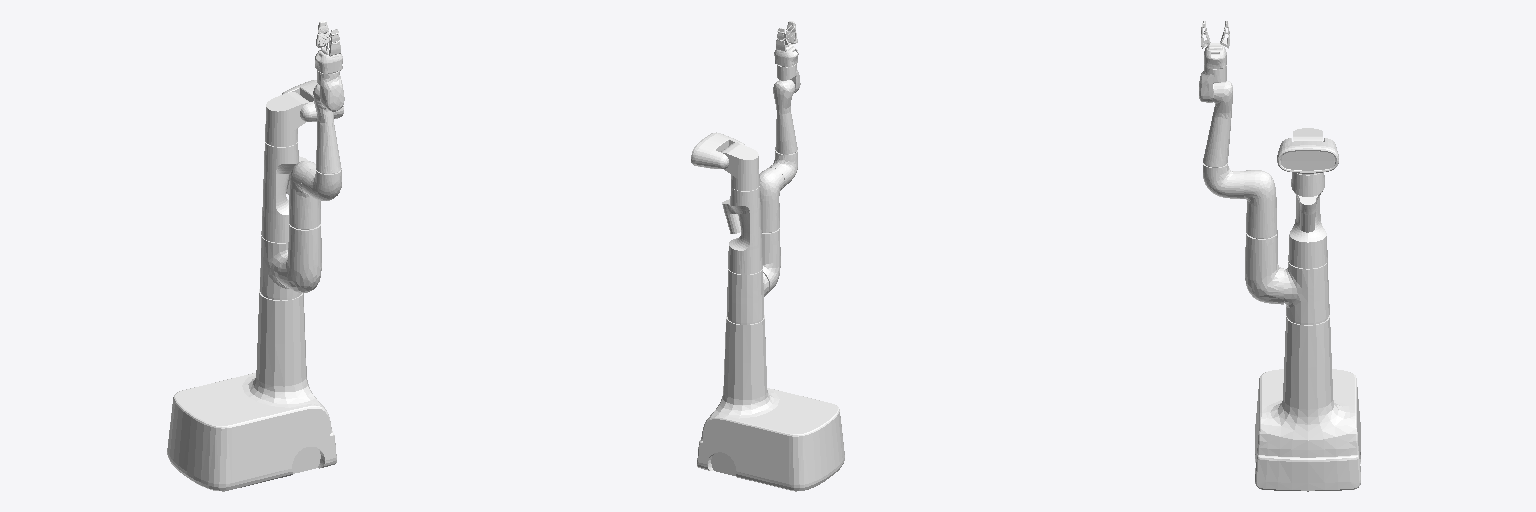
--- What the picture shows (computed from the rendered views, not written in the file) ---
3 views of the same robot in one strip: view 1: azimuth 30°, elevation 25°; view 2: azimuth 150°, elevation 25°; view 3: azimuth 270°, elevation 25° (orthographic).
Model google_robot with 21 links and 20 joints (9 revolute, 11 fixed), rooted at base_link, posed joints at zero except 2 at the middle of their limits (joint_finger_right = 0.655, joint_finger_left = 0.655).
Visible links, largest first — view 1: base_link, link_shoulder, link_bicep, link_forearm, link_torso, link_elbow, link_wrist; view 2: base_link, link_torso, link_forearm, link_bicep, link_shoulder, link_elbow; view 3: base_link, link_torso, link_shoulder, link_bicep, link_forearm, link_elbow, link_wrist, link_gripper.
Link boxes in pixels (box(x1,y1,x2,y2)): base_link: box(167, 80, 343, 491); link_shoulder: box(278, 224, 321, 292); link_bicep: box(289, 161, 320, 228); link_forearm: box(313, 84, 341, 173); link_torso: box(260, 236, 301, 300); link_elbow: box(302, 168, 341, 200); link_wrist: box(317, 70, 344, 111); base_link: box(691, 132, 844, 491); link_torso: box(727, 269, 768, 324); link_forearm: box(773, 80, 797, 153); link_bicep: box(760, 168, 784, 232); link_shoulder: box(762, 228, 780, 295); link_elbow: box(769, 150, 797, 188); base_link: box(1255, 128, 1360, 491); link_torso: box(1284, 261, 1329, 324); link_shoulder: box(1245, 232, 1283, 304); link_bicep: box(1244, 170, 1277, 237); link_forearm: box(1203, 81, 1232, 166); link_elbow: box(1203, 163, 1243, 198); link_wrist: box(1199, 65, 1226, 102); link_gripper: box(1204, 43, 1226, 68).
Bounding box of the posed robot: 0.5899 × 0.5786 × 1.79 m (x, y, z).
14 mesh visuals loaded from 12 distinct referenced files (12 binary STL).

The robot description file, URDF, robot "google_robot":
<?xml version="1.0" ?>
<robot name="google_robot">
   <!--generated with mjcf_urdf_simple_converter (https://github.com/Yasu31/mjcf_urdf_simple_converter)-->

   <!-- <link name="world">
      <inertial>
         <origin xyz="0.0 0.0 0.0" rpy="0.0 0.0 0.0"/>
         <mass value="0.0"/>
         <inertia ixx="0.0" iyy="0.0" izz="0.0" ixy="0" ixz="0" iyz="0"/>
      </inertial>
   </link> -->

   <link name="base_link">
      <!-- <inertial>
         <origin xyz="-0.08549215471308093 -0.0003283566830510141 0.293693594005164" rpy="0.18410589315352854 -0.00044907516071801545 1.5704315215637985"/>
         <mass value="140.49156113631398"/>
         <inertia ixx="22.199985572044444" iyy="21.147924177009482" izz="3.1781594804057987" ixy="0" ixz="0" iyz="0"/>
      </inertial> -->
      <visual name="link_base_v">
         <origin xyz="-0.09223875360195581 -2.16194849456654e-05 0.27299190198481205" rpy="0.19114878981556016 -0.00014224676061957986 1.5707815235452554"/>
         <geometry>
            <mesh filename="package://google_robot_description/meshes/converted_link_base_v.stl"/>
         </geometry>
         <material name="white"/>
      </visual>
      <collision name="link_base_0_00">
         <origin xyz="-0.1296613167139581 0.08742954969797466 0.07848667593454184" rpy="1.5626326666896526 -0.03216163129944638 1.5843547285830248"/>
         <geometry>
            <mesh filename="package://google_robot_description/meshes/converted_link_base_0_00.stl"/>
         </geometry>
         <material name="white"/>
      </collision>
      <collision name="link_base_0_01">
         <origin xyz="-0.1296613141190887 -0.08807371157679778 0.07776313948307118" rpy="1.5627453024989477 0.023917192016621458 1.5572410540849781"/>
         <geometry>
            <mesh filename="package://google_robot_description/meshes/converted_link_base_0_01.stl"/>
         </geometry>
         <material name="white"/>
      </collision>
      <collision name="link_base_1_00">
         <origin xyz="-0.023243605560313307 -0.000913311846711107 0.22153747424739467" rpy="-2.0044603094681754 -1.5609850061274022 -2.707950056894595"/>
         <geometry>
            <mesh filename="package://google_robot_description/meshes/converted_link_base_1_00.stl"/>
         </geometry>
         <material name="white"/>
      </collision>
      <collision name="link_base_1_01">
         <origin xyz="-0.00013213843775259352 -0.003891389912020692 0.8591610100071456" rpy="0.9408405165717699 -1.5141935471744359 2.251774071927241"/>
         <geometry>
            <mesh filename="package://google_robot_description/meshes/converted_link_base_1_01.stl"/>
         </geometry>
         <material name="white"/>
      </collision>
      <collision name="link_base_1_02">
         <origin xyz="-0.02309503477518413 -0.004698092936603997 1.1395854136336547" rpy="1.5749189167904627 0.013772764098090917 5.6774970830675286e-05"/>
         <geometry>
            <mesh filename="package://google_robot_description/meshes/converted_link_base_1_02.stl"/>
         </geometry>
         <material name="white"/>
      </collision>
      <collision name="link_base_1_03">
         <origin xyz="1.4284385260595886e-10 -0.001732618755265506 0.42026923811736827" rpy="0.0 -0.004122666648090467 1.5707963267948966"/>
         <geometry>
            <mesh filename="package://google_robot_description/meshes/converted_link_base_1_03.stl"/>
         </geometry>
         <material name="white"/>
      </collision>
      <collision name="link_base_1_04">
         <origin xyz="-0.0002741852647968854 -0.0010611888499496107 0.25739079767900175" rpy="-1.4641199554045614 -1.5666501092801997 -1.6775814254526509"/>
         <geometry>
            <mesh filename="package://google_robot_description/meshes/converted_link_base_1_04.stl"/>
         </geometry>
         <material name="white"/>
      </collision>
      <collision name="link_base_1_05">
         <origin xyz="-0.0017959920095182186 -0.000995980366230225 0.24157156087876594" rpy="-1.2470291882138997 -1.566447701074763 -1.8946098597648362"/>
         <geometry>
            <mesh filename="package://google_robot_description/meshes/converted_link_base_1_05.stl"/>
         </geometry>
         <material name="white"/>
      </collision>
      <collision name="link_base_1_06">
         <origin xyz="-0.03048719367157649 -0.00407962015408136 0.9698067404074032" rpy="1.5921372866823231 -1.491821254730076 -0.020966884214348447"/>
         <geometry>
            <mesh filename="package://google_robot_description/meshes/converted_link_base_1_06.stl"/>
         </geometry>
         <material name="white"/>
      </collision>
      <collision name="link_base_1_07">
         <origin xyz="-0.024516331446952998 -0.004282342006408316 1.0236903264230999" rpy="-0.26080190791992097 -0.006573526482474001 1.5838030739791051"/>
         <geometry>
            <mesh filename="package://google_robot_description/meshes/converted_link_base_1_07.stl"/>
         </geometry>
         <material name="white"/>
      </collision>
      <collision name="link_base_1_08">
         <origin xyz="0.05279125870748729 -0.005223569969948061 0.9992588696439293" rpy="-0.022219446384517928 0.27923102687212653 -1.734723475976807e-18"/>
         <geometry>
            <mesh filename="package://google_robot_description/meshes/converted_link_base_1_08.stl"/>
         </geometry>
         <material name="white"/>
      </collision>
      <collision name="link_base_1_09">
         <origin xyz="-0.05039927577855595 -0.0046188373226951455 1.12035908270126" rpy="0.004124849402150095 0.03167508524604057 0.00013065088534363386"/>
         <geometry>
            <mesh filename="package://google_robot_description/meshes/converted_link_base_1_09.stl"/>
         </geometry>
         <material name="white"/>
      </collision>
      <collision name="link_base_1_10">
         <origin xyz="0.019550870209108315 -0.004443240873268934 1.0769948939788907" rpy="-3.127515164395966 -1.290480329375801 -0.01332292395367296"/>
         <geometry>
            <mesh filename="package://google_robot_description/meshes/converted_link_base_1_10.stl"/>
         </geometry>
         <material name="white"/>
      </collision>
      <collision name="link_base_1_11">
         <origin xyz="-0.00608546585875073 -0.0019305184453416704 0.917104103053469" rpy="0.8958481424978622 -1.5528600525721117 2.2735748484621423"/>
         <geometry>
            <mesh filename="package://google_robot_description/meshes/converted_link_base_1_11.stl"/>
         </geometry>
         <material name="white"/>
      </collision>
      <collision name="link_base_1_12">
         <origin xyz="-0.02279777625955035 -0.0036121401841248597 0.93173598317525" rpy="-1.5347047542974925 -1.5107853240034956 -3.13026982507934"/>
         <geometry>
            <mesh filename="package://google_robot_description/meshes/converted_link_base_1_12.stl"/>
         </geometry>
         <material name="white"/>
      </collision>
      <collision name="link_base_1_13">
         <origin xyz="-0.02840924238956474 -0.003905612482536215 0.9484767762393416" rpy="-1.7390995260863498 -1.546450607750769 -2.9709354607748333"/>
         <geometry>
            <mesh filename="package://google_robot_description/meshes/converted_link_base_1_13.stl"/>
         </geometry>
         <material name="white"/>
      </collision>
      <collision name="link_base_1_14">
         <origin xyz="0.07021841466895207 -0.006779204715447116 1.0388533107070694" rpy="0.0 0.0 0.0"/>
         <geometry>
            <mesh filename="package://google_robot_description/meshes/converted_link_base_1_14.stl"/>
         </geometry>
         <material name="white"/>
      </collision>
      <collision name="link_base_1_15">
         <origin xyz="-0.031233709803401313 -0.0046908556250446 1.1378281289834207" rpy="1.574919068730703 0.028250960550824766 0.00011646192931036303"/>
         <geometry>
            <mesh filename="package://google_robot_description/meshes/converted_link_base_1_15.stl"/>
         </geometry>
         <material name="white"/>
      </collision>
      <collision name="link_base_1_16">
         <origin xyz="-0.008960660517729903 -0.004695325422412281 1.1389147533742148" rpy="1.57491959479392 -0.005800372211130833 -2.3916490544895197e-05"/>
         <geometry>
            <mesh filename="package://google_robot_description/meshes/converted_link_base_1_16.stl"/>
         </geometry>
         <material name="white"/>
      </collision>
      <collision name="link_base_1_17">
         <origin xyz="-0.03915800473758921 -0.004671461104009716 1.1331248747099654" rpy="1.5749224711767043 0.045689022072876284 0.00018850809722226192"/>
         <geometry>
            <mesh filename="package://google_robot_description/meshes/converted_link_base_1_17.stl"/>
         </geometry>
         <material name="white"/>
      </collision>
      <collision name="link_base_1_18">
         <origin xyz="0.026521126765433573 -0.00467128565259663 1.133671401141913" rpy="1.5747833901377108 -0.21660656506310816 -0.0008712843250853197"/>
         <geometry>
            <mesh filename="package://google_robot_description/meshes/converted_link_base_1_18.stl"/>
         </geometry>
         <material name="white"/>
      </collision>
      <collision name="link_base_1_19">
         <origin xyz="0.057783034622311685 -0.0009008488953425035 0.21847838834502287" rpy="1.6284807259534242 -1.4992799216023573 -0.05755069950683511"/>
         <geometry>
            <mesh filename="package://google_robot_description/meshes/converted_link_base_1_19.stl"/>
         </geometry>
         <material name="white"/>
      </collision>
      <!-- <visual name="link_wheel_v">
         <origin xyz="-5.489740642117986e-20 0.18283 8.563015090875109e-19" rpy="0.0 0.0 1.5707963267948966"/>
         <geometry>
            <mesh filename="package://google_robot_description/meshes/converted_link_wheel_v.stl"/>
         </geometry>
         <material name="white"/>
      </visual>
      <visual name="link_wheel_v">
         <origin xyz="-5.489740642117986e-20 -0.18283 8.563015090875109e-19" rpy="0.0 0.0 1.5707963267948966"/>
         <geometry>
            <mesh filename="package://google_robot_description/meshes/converted_link_wheel_v.stl"/>
         </geometry>
         <material name="white"/>
      </visual> -->
      <visual name="link_head_pan_v">
         <origin xyz="0.01734790753151771 8.44039069710016e-08 1.2518710839834226" rpy="0.7102792183914598 4.605302922122689e-06 1.5708002874211906"/>
         <geometry>
            <mesh filename="package://google_robot_description/meshes/converted_link_head_pan_v.stl"/>
         </geometry>
         <material name="white"/>
      </visual>
      <collision name="link_head_pan">
         <origin xyz="0.016786564891622127 4.6002984721788605e-05 1.2516083142177832" rpy="0.7361941103384193 -0.007356367894106652 1.5797260334666345"/>
         <geometry>
            <mesh filename="package://google_robot_description/meshes/converted_link_head_pan.stl"/>
         </geometry>
         <material name="white"/>
      </collision>
      <visual name="link_head_tilt_v">
         <origin xyz="0.1317184863266883 -3.172470437313845e-09 1.2899775063112424" rpy="-1.5707963267948966 -1.552006720135865 3.141592653589793"/>
         <geometry>
            <mesh filename="package://google_robot_description/meshes/converted_link_head_tilt_v.stl"/>
         </geometry>
         <material name="white"/>
      </visual>
      <collision name="link_head_tilt">
         <origin xyz="0.13615088900957345 -2.470995414950858e-05 1.289459414259963" rpy="-1.5583176658244278 -1.5548709242993137 3.1289609458558334"/>
         <geometry>
            <mesh filename="package://google_robot_description/meshes/converted_link_head_tilt.stl"/>
         </geometry>
         <material name="white"/>
      </collision>
   </link>


   <!-- <link name="link_right_wheel">
      <visual name="link_wheel_v">
         <geometry>
            <mesh filename="package://google_robot_description/meshes/converted_link_wheel_v.stl"/>
         </geometry>
         <material name="white"/>
      </visual>
      <collision name="link_wheel_v">
         <geometry>
            <mesh filename="package://google_robot_description/meshes/converted_link_wheel_v.stl"/>
         </geometry>
         <material name="white"/>
      </collision>
   </link>
   <joint name="joint_right_wheel" type="continuous">
      <origin xyz="-5.489740642117986e-20 0.18283 8.563015090875109e-19"  rpy="0.0 0.0 1.5707963267948966"/>
      <parent link="base_link" />
      <child link="link_right_wheel" />
      <axis xyz="0 0 1" />
   </joint>

   <link name="link_left_wheel">
      <visual name="link_wheel_v">
         <geometry>
            <mesh filename="package://google_robot_description/meshes/converted_link_wheel_v.stl"/>
         </geometry>
         <material name="white"/>
      </visual>
      <collision name="link_wheel_v">
         <geometry>
            <mesh filename="package://google_robot_description/meshes/converted_link_wheel_v.stl"/>
         </geometry>
         <material name="white"/>
      </collision>
   </link>
   <joint name="joint_left_wheel" type="continuous">
      <origin xyz="-5.489740642117986e-20 -0.18283 8.563015090875109e-19" rpy="0.0 0.0 1.5707963267948966"/>
      <parent link="base_link" />
      <child link="link_left_wheel" />
      <axis xyz="0 0 1" />
   </joint> -->

   <!-- <joint type="fixed" name="world2base_link_fixed">
      <parent link="world"/>
      <child link="base_link"/>
      <origin xyz="0.0 0.0 0.06205" rpy="0.0 0.0 0.0"/>
   </joint> -->
   <link name="link_torso">
      <inertial>
         <origin xyz="0.0 0.0 0.108398" rpy="0.0 0.0 0.0"/>
         <mass value="2.46883"/>
         <inertia ixx="0.0184592" iyy="0.0154173" izz="0.0102031" ixy="0" ixz="0" iyz="0"/>
      </inertial>
      <visual name="link_torso_v">
         <origin xyz="8.658159210019836e-06 -0.02210521754429183 0.10191571454357089" rpy="0.5643664781645378 0.00030686093619070043 -8.725427772460215e-05"/>
         <geometry>
            <mesh filename="package://google_robot_description/meshes/converted_link_torso_v.stl"/>
         </geometry>
         <material name="white"/>
      </visual>
      <collision name="link_torso_00">
         <origin xyz="-4.6388655020453734e-05 -0.12794687734710203 0.11271525635608291" rpy="1.3332384960708403 -0.00186770875035136 1.568021757857159"/>
         <geometry>
            <mesh filename="package://google_robot_description/meshes/converted_link_torso_00.stl"/>
         </geometry>
         <material name="white"/>
      </collision>
      <collision name="link_torso_01">
         <origin xyz="1.3621469465993702e-05 -0.008632878579039322 0.10417039099495055" rpy="0.03613726871855304 -0.000429112235745821 -0.00570976553423614"/>
         <geometry>
            <mesh filename="package://google_robot_description/meshes/converted_link_torso_01.stl"/>
         </geometry>
         <material name="white"/>
      </collision>
   </link>
   <link name="joint_torso_jointbody">
      <inertial>
         <origin xyz="0.0 0.0 0.0" rpy="0.0 0.0 0.0"/>
         <mass value="0.001"/>
         <inertia ixx="1e-09" iyy="1e-09" izz="1e-09" ixy="0" ixz="0" iyz="0"/>
      </inertial>
   </link>
   <joint type="revolute" name="joint_torso">
      <parent link="base_link"/>
      <child link="joint_torso_jointbody"/>
      <origin xyz="0.0 0.0 0.5945" rpy="0.0 0.0 0.0"/>
      <axis xyz="0.0 0.0 1.0"/>
      <limit lower="-4.49" upper="1.35" effort="100" velocity="100"/>
   </joint>
   <joint type="fixed" name="joint_torso_offset">
      <parent link="joint_torso_jointbody"/>
      <child link="link_torso"/>
      <origin xyz="-0.0 -0.0 -0.0" rpy="0.0 0.0 0.0"/>
   </joint>
   <link name="link_shoulder">
      <inertial>
         <origin xyz="0.00108994 0.00565406 0.103479" rpy="0.0 0.0 0.0"/>
         <mass value="2.08054"/>
         <inertia ixx="0.0162136" iyy="0.0158994" izz="0.00367842" ixy="0" ixz="0" iyz="0"/>
      </inertial>
      <visual name="link_shoulder_v">
         <origin xyz="-1.8103932661482854e-05 0.012241325359719925 0.07580134200927313" rpy="0.163817179060937 0.0002837321136692772 0.0002383776990193126"/>
         <geometry>
            <mesh filename="package://google_robot_description/meshes/converted_link_shoulder_v.stl"/>
         </geometry>
         <material name="white"/>
      </visual>
      <collision name="link_shoulder">
         <origin xyz="-6.108556221681531e-05 0.012698231813022516 0.07602079196516663" rpy="0.16283179740275316 0.0024307809201369324 -0.00836521577014511"/>
         <geometry>
            <mesh filename="package://google_robot_description/meshes/converted_link_shoulder.stl"/>
         </geometry>
         <material name="white"/>
      </collision>
   </link>
   <link name="joint_shoulder_jointbody">
      <inertial>
         <origin xyz="0.0 0.0 0.0" rpy="0.0 0.0 0.0"/>
         <mass value="0.001"/>
         <inertia ixx="1e-09" iyy="1e-09" izz="1e-09" ixy="0" ixz="0" iyz="0"/>
      </inertial>
   </link>
   <joint type="revolute" name="joint_shoulder">
      <parent link="link_torso"/>
      <child link="joint_shoulder_jointbody"/>
      <origin xyz="0.0 -0.167289 0.113" rpy="0.0 0.0 0.0"/>
      <axis xyz="0.0 1.0 0.0"/>
      <limit lower="-2.66" upper="3.18" effort="100" velocity="100"/>
   </joint>
   <joint type="fixed" name="joint_shoulder_offset">
      <parent link="joint_shoulder_jointbody"/>
      <child link="link_shoulder"/>
      <origin xyz="-0.0 -0.0 -0.0" rpy="0.0 0.0 0.0"/>
   </joint>
   <link name="link_bicep">
      <inertial>
         <origin xyz="9.39565e-05 -0.0191308 0.130972" rpy="0.0 0.0 0.0"/>
         <mass value="1.3989"/>
         <inertia ixx="0.00828463" iyy="0.00826766" izz="0.00210613" ixy="0" ixz="0" iyz="0"/>
      </inertial>
      <visual name="link_bicep_v">
         <origin xyz="-5.176371048195771e-06 -0.005799848417783903 0.11442910654881332" rpy="0.12479738341574165 -0.00029317886582069796 0.001343943197481455"/>
         <geometry>
            <mesh filename="package://google_robot_description/meshes/converted_link_bicep_v.stl"/>
         </geometry>
         <material name="white"/>
      </visual>
      <collision name="link_bicep">
         <origin xyz="-2.458527277740985e-05 -0.00585676587129004 0.11441431658672646" rpy="0.12620548882837532 -6.339346588180028e-05 -0.0023400189923849513"/>
         <geometry>
            <mesh filename="package://google_robot_description/meshes/converted_link_bicep.stl"/>
         </geometry>
         <material name="white"/>
      </collision>
   </link>
   <link name="joint_bicep_jointbody">
      <inertial>
         <origin xyz="0.0 0.0 0.0" rpy="0.0 0.0 0.0"/>
         <mass value="0.001"/>
         <inertia ixx="1e-09" iyy="1e-09" izz="1e-09" ixy="0" ixz="0" iyz="0"/>
      </inertial>
   </link>
   <joint type="revolute" name="joint_bicep">
      <parent link="link_shoulder"/>
      <child link="joint_bicep_jointbody"/>
      <origin xyz="0.0 0.002289 0.215029" rpy="0.0 0.0 0.0"/>
      <axis xyz="0.0 0.0 1.0"/>
      <limit lower="-2.13" upper="3.71" effort="100" velocity="100"/>
   </joint>
   <joint type="fixed" name="joint_bicep_offset">
      <parent link="joint_bicep_jointbody"/>
      <child link="link_bicep"/>
      <origin xyz="-0.0 -0.0 -0.0" rpy="0.0 0.0 0.0"/>
   </joint>
   <link name="link_elbow">
      <inertial>
         <origin xyz="-1.2460482914821558e-05 -0.07034512399332493 0.019761574109139035" rpy="0.8852449992665434 -0.0004163718989655951 0.0010722873649248177"/>
         <mass value="2.0366235174566665"/>
         <inertia ixx="0.00529312367136757" iyy="0.005076027058695623" izz="0.002671035904881885" ixy="0" ixz="0" iyz="0"/>
      </inertial>
      <visual name="link_elbow_v">
         <origin xyz="-5.662591539588581e-05 -0.07098479015843825 0.019584608434358882" rpy="0.8938066635171974 0.00045003850329572437 0.00023259654843454936"/>
         <geometry>
            <mesh filename="package://google_robot_description/meshes/converted_link_elbow_v.stl"/>
         </geometry>
         <material name="white"/>
      </visual>
      <collision name="link_elbow">
         <origin xyz="5.7377218257743655e-05 -0.06933363577777218 0.020041405534278963" rpy="0.8697165247545069 -0.002967370920618606 0.0035492745701967143"/>
         <geometry>
            <mesh filename="package://google_robot_description/meshes/converted_link_elbow.stl"/>
         </geometry>
         <material name="white"/>
      </collision>
   </link>
   <link name="joint_elbow_jointbody">
      <inertial>
         <origin xyz="0.0 0.0 0.0" rpy="0.0 0.0 0.0"/>
         <mass value="0.001"/>
         <inertia ixx="1e-09" iyy="1e-09" izz="1e-09" ixy="0" ixz="0" iyz="0"/>
      </inertial>
   </link>
   <joint type="revolute" name="joint_elbow">
      <parent link="link_bicep"/>
      <child link="joint_elbow_jointbody"/>
      <origin xyz="1.9206e-12 -0.064 0.185036" rpy="0.0 0.0 0.0"/>
      <axis xyz="0.0 1.0 0.0"/>
      <limit lower="-2.05" upper="3.79" effort="100" velocity="100"/>
   </joint>
   <joint type="fixed" name="joint_elbow_offset">
      <parent link="joint_elbow_jointbody"/>
      <child link="link_elbow"/>
      <origin xyz="-0.0 -0.0 -0.0" rpy="0.0 0.0 0.0"/>
   </joint>
   <link name="link_forearm">
      <inertial>
         <origin xyz="5.832292895816761e-05 0.015758881640218613 0.1500808524841704" rpy="-0.08535641607957227 0.00036546090986577795 0.0026021982098882457"/>
         <mass value="2.1837204258419503"/>
         <inertia ixx="0.020184595781539732" iyy="0.020062424054538827" izz="0.001580403401830833" ixy="0" ixz="0" iyz="0"/>
      </inertial>
      <visual name="link_forearm_v">
         <origin xyz="4.907691614677735e-05 0.015059738242208373 0.1487234994357093" rpy="-0.07984665264015076 0.00036769725335483727 0.0030690120535450047"/>
         <geometry>
            <mesh filename="package://google_robot_description/meshes/converted_link_forearm_v.stl"/>
         </geometry>
         <material name="white"/>
      </visual>
      <collision name="link_forearm">
         <origin xyz="7.371869174950246e-05 0.016923042466346096 0.15234101434901862" rpy="-0.09508189553997816 0.00038443747135707973 0.0022051002238043654"/>
         <geometry>
            <mesh filename="package://google_robot_description/meshes/converted_link_forearm.stl"/>
         </geometry>
         <material name="white"/>
      </collision>
   </link>
   <link name="joint_forearm_jointbody">
      <inertial>
         <origin xyz="0.0 0.0 0.0" rpy="0.0 0.0 0.0"/>
         <mass value="0.001"/>
         <inertia ixx="1e-09" iyy="1e-09" izz="1e-09" ixy="0" ixz="0" iyz="0"/>
      </inertial>
   </link>
   <joint type="revolute" name="joint_forearm">
      <parent link="link_elbow"/>
      <child link="joint_forearm_jointbody"/>
      <origin xyz="-1.92032e-12 -0.101 0.0914359" rpy="0.0 0.0 0.0"/>
      <axis xyz="0.0 0.0 1.0"/>
      <limit lower="-2.92" upper="2.92" effort="100" velocity="100"/>
   </joint>
   <joint type="fixed" name="joint_forearm_offset">
      <parent link="joint_forearm_jointbody"/>
      <child link="link_forearm"/>
      <origin xyz="-0.0 -0.0 -0.0" rpy="0.0 0.0 0.0"/>
   </joint>
   <link name="link_wrist">
      <inertial>
         <origin xyz="-4.3268494464577274e-05 -0.009859401782402669 0.04813328836388589" rpy="0.0030972638376928208 0.3926404478687946 1.58215070937575"/>
         <mass value="1.1593935664232107"/>
         <inertia ixx="0.0024918531981882367" iyy="0.0024205083986639626" izz="0.0008785309524895034" ixy="0" ixz="0" iyz="0"/>
      </inertial>
      <visual name="link_wrist_v">
         <origin xyz="-0.00010714119985469734 -0.009930435614792869 0.0473778316410918" rpy="0.002257878085661358 0.40010835771075515 1.5794369780866666"/>
         <geometry>
            <mesh filename="package://google_robot_description/meshes/converted_link_wrist_v.stl"/>
         </geometry>
         <material name="white"/>
      </visual>
      <collision name="link_wrist">
         <origin xyz="2.9072382396185255e-05 -0.009778950364375176 0.048988902689652905" rpy="0.004189191769512046 0.3839661988994625 1.5859951422496676"/>
         <geometry>
            <mesh filename="package://google_robot_description/meshes/converted_link_wrist.stl"/>
         </geometry>
         <material name="white"/>
      </collision>
   </link>
   <link name="joint_wrist_jointbody">
      <inertial>
         <origin xyz="0.0 0.0 0.0" rpy="0.0 0.0 0.0"/>
         <mass value="0.001"/>
         <inertia ixx="1e-09" iyy="1e-09" izz="1e-09" ixy="0" ixz="0" iyz="0"/>
      </inertial>
   </link>
   <joint type="revolute" name="joint_wrist">
      <parent link="link_forearm"/>
      <child link="joint_wrist_jointbody"/>
      <origin xyz="0.0 -0.00604 0.2735" rpy="0.0 0.0 0.0"/>
      <axis xyz="0.0 1.0 0.0"/>
      <limit lower="-1.79" upper="1.79" effort="100" velocity="100"/>
   </joint>
   <joint type="fixed" name="joint_wrist_offset">
      <parent link="joint_wrist_jointbody"/>
      <child link="link_wrist"/>
      <origin xyz="-0.0 -0.0 -0.0" rpy="0.0 0.0 0.0"/>
   </joint>
   <link name="link_gripper">
      <inertial>
         <origin xyz="-3.20302e-05 0.000371384 0.0387883" rpy="0.11548383039563204 -0.054898103958796574 -0.017194400388500175"/>
         <mass value="0.41474"/>
         <inertia ixx="0.000327698" iyy="0.000308611" izz="0.000272392" ixy="0" ixz="0" iyz="0"/>
      </inertial>
      <visual name="link_gripper_v">
         <origin xyz="0.0009791244615350993 -6.901553400597978e-06 0.03379147395793672" rpy="2.467144993156652 -1.5700138907216448 0.6747134079369729"/>
         <geometry>
            <mesh filename="package://google_robot_description/meshes/converted_link_gripper_v.stl"/>
         </geometry>
         <material name="white"/>
      </visual>
      <collision name="link_gripper">
         <origin xyz="3.1393971252845154e-05 2.7678639302945324e-05 0.03429612535124843" rpy="-1.6660973516035376 -1.5436359299394005 -3.04415010886606"/>
         <geometry>
            <mesh filename="package://google_robot_description/meshes/converted_link_gripper.stl"/>
         </geometry>
         <material name="white"/>
      </collision>
   </link>
   <link name="joint_gripper_jointbody">
      <inertial>
         <origin xyz="0.0 0.0 0.0" rpy="0.0 0.0 0.0"/>
         <mass value="0.001"/>
         <inertia ixx="1e-09" iyy="1e-09" izz="1e-09" ixy="0" ixz="0" iyz="0"/>
      </inertial>
   </link>
   <joint type="revolute" name="joint_gripper">
      <parent link="link_wrist"/>
      <child link="joint_gripper_jointbody"/>
      <origin xyz="0.0 0.0060384 0.10911" rpy="0.0 0.0 0.0"/>
      <axis xyz="0.0 0.0 1.0"/>
      <limit lower="-4.49" upper="1.35" effort="100" velocity="100"/>
   </joint>
   <joint type="fixed" name="joint_gripper_offset">
      <parent link="joint_gripper_jointbody"/>
      <child link="link_gripper"/>
      <origin xyz="-0.0 -0.0 -0.0" rpy="0.0 0.0 0.0"/>
   </joint>
   <link name="link_finger_right">
      <inertial>
         <origin xyz="2.2840455907115186e-05 -0.0030783787091185353 0.04056673612563627" rpy="-0.006598859471164009 -0.30636658909237835 1.5721707948986041"/>
         <mass value="0.13578381627180497"/>
         <inertia ixx="4.037902463737934e-05" iyy="2.995347521977608e-05" izz="2.843600276244179e-05" ixy="0" ixz="0" iyz="0"/>
      </inertial>
      <visual name="link_finger_base_v">
         <origin xyz="-7.33616140933975e-06 -0.002498262124096411 0.040644071627170694" rpy="-0.002318968739103977 -0.4404086011103039 1.571916371523376"/>
         <geometry>
            <mesh filename="package://google_robot_description/meshes/converted_link_finger_base_v.stl"/>
         </geometry>
         <material name="white"/>
      </visual>
      <collision name="link_finger_base">
         <origin xyz="0.00010682141674804724 -0.00186111002322285 0.04110153948586531" rpy="1.676317163439948 -0.29734742318789964 1.5721607025000164"/>
         <geometry>
            <mesh filename="package://google_robot_description/meshes/converted_link_finger_base.stl"/>
         </geometry>
         <material name="white"/>
      </collision>
   </link>
   <link name="joint_finger_right_jointbody">
      <inertial>
         <origin xyz="0.0 0.0 0.0" rpy="0.0 0.0 0.0"/>
         <mass value="0.001"/>
         <inertia ixx="1e-09" iyy="1e-09" izz="1e-09" ixy="0" ixz="0" iyz="0"/>
      </inertial>
   </link>
   <joint type="revolute" name="joint_finger_right">
      <parent link="link_gripper"/>
      <child link="joint_finger_right_jointbody"/>
      <origin xyz="0.0 0.025 0.05886" rpy="-0.9900003380671866 0.0 0.0"/>
      <axis xyz="1.0 0.0 0.0"/>
      <limit lower="0.01" upper="1.3" effort="100" velocity="100"/>
   </joint>
   <joint type="fixed" name="joint_finger_right_offset">
      <parent link="joint_finger_right_jointbody"/>
      <child link="link_finger_right"/>
      <origin xyz="-0.0 -0.0 -0.0" rpy="0.0 0.0 0.0"/>
   </joint>
   <link name="link_finger_tip_right">
      <inertial>
         <origin xyz="8.467735008652482e-06 0.0007317520071020577 0.01921860299244254" rpy="-0.00011537466633260163 -0.03904422507491656 1.57156037902024"/>
         <mass value="0.12357188206974147"/>
         <inertia ixx="3.1920370136846716e-05" iyy="2.5981981859751873e-05" izz="1.2012287886008877e-05" ixy="0" ixz="0" iyz="0"/>
      </inertial>
      <visual name="link_finger_tip_v">
         <origin xyz="2.4539219197567825e-05 0.002120593391525503 0.017735537020326812" rpy="-0.0003110246863293753 -0.16950305152986878 1.572640061780126"/>
         <geometry>
            <mesh filename="package://google_robot_description/meshes/converted_link_finger_tip_v.stl"/>
         </geometry>
         <material name="white"/>
      </visual>
      <collision name="link_finger_tip_v">
         <origin xyz="2.4539219197567825e-05 0.002120593391525503 0.017735537020326812" rpy="-0.0003110246863293753 -0.16950305152986878 1.572640061780126"/>
         <geometry>
            <mesh filename="package://google_robot_description/meshes/converted_link_finger_tip_v.stl"/>
         </geometry>
         <material name="white"/>
      </collision>
   </link>
   <joint type="fixed" name="link_finger_right2link_finger_tip_right_fixed">
      <parent link="link_finger_right"/>
      <child link="link_finger_tip_right"/>
      <origin xyz="0.0 -0.0103567 0.0641556" rpy="0.19999999987321332 0.0 0.0"/>
   </joint>
   <link name="link_finger_left">
      <inertial>
         <origin xyz="-5.1764633234557465e-06 -0.00323475062271285 0.040454462895470514" rpy="-0.0027923384974565257 -0.34964632542102314 1.571464272863905"/>
         <mass value="0.13578381627180497"/>
         <inertia ixx="3.6596900612855905e-05" iyy="2.873887205571471e-05" izz="2.559548412921936e-05" ixy="0" ixz="0" iyz="0"/>
      </inertial>
      <visual name="link_finger_base_v">
         <origin xyz="-7.33616140933975e-06 -0.002498262124096411 0.040644071627170694" rpy="-0.002318968739103977 -0.4404086011103039 1.571916371523376"/>
         <geometry>
            <mesh filename="package://google_robot_description/meshes/converted_link_finger_base_v.stl"/>
         </geometry>
         <material name="white"/>
      </visual>
      <collision name="link_finger_base_v">
         <origin xyz="-7.33616140933975e-06 -0.002498262124096411 0.040644071627170694" rpy="-0.002318968739103977 -0.4404086011103039 1.571916371523376"/>
         <geometry>
            <mesh filename="package://google_robot_description/meshes/converted_link_finger_base_v.stl"/>
         </geometry>
         <material name="white"/>
      </collision>
   </link>
   <link name="joint_finger_left_jointbody">
      <inertial>
         <origin xyz="0.0 0.0 0.0" rpy="0.0 0.0 0.0"/>
         <mass value="0.001"/>
         <inertia ixx="1e-09" iyy="1e-09" izz="1e-09" ixy="0" ixz="0" iyz="0"/>
      </inertial>
   </link>
   <joint type="revolute" name="joint_finger_left">
      <parent link="link_gripper"/>
      <child link="joint_finger_left_jointbody"/>
      <origin xyz="0.0 -0.025 0.05886" rpy="-0.9900003380671867 0.0 3.141592653589793"/>
      <axis xyz="1.0 0.0 0.0"/>
      <limit lower="0.01" upper="1.3" effort="100" velocity="100"/>
   </joint>
   <joint type="fixed" name="joint_finger_left_offset">
      <parent link="joint_finger_left_jointbody"/>
      <child link="link_finger_left"/>
      <origin xyz="-0.0 -0.0 -0.0" rpy="0.0 0.0 0.0"/>
   </joint>
   <link name="link_finger_tip_left">
      <inertial>
         <origin xyz="6.103155794239577e-06 0.0007130036641069334 0.018805950962342242" rpy="0.0003516229916379343 -0.04350750194822095 1.571497686153129"/>
         <mass value="0.12357188206974147"/>
         <inertia ixx="3.334732169925333e-05" iyy="2.6720793445485545e-05" izz="1.2736045379917187e-05" ixy="0" ixz="0" iyz="0"/>
      </inertial>
      <visual name="link_finger_tip_v">
         <origin xyz="2.4539219197567825e-05 0.002120593391525503 0.017735537020326812" rpy="-0.0003110246863293753 -0.16950305152986878 1.572640061780126"/>
         <geometry>
            <mesh filename="package://google_robot_description/meshes/converted_link_finger_tip_v.stl"/>
         </geometry>
         <material name="white"/>
      </visual>
      <collision name="link_finger_tip">
         <origin xyz="6.487081955473115e-06 0.001977461091813616 0.014585187463334232" rpy="0.01110725458533346 -0.1642177635448201 1.5726373780875196"/>
         <geometry>
            <mesh filename="package://google_robot_description/meshes/converted_link_finger_tip.stl"/>
         </geometry>
         <material name="white"/>
      </collision>
   </link>
   <joint type="fixed" name="link_finger_left2link_finger_tip_left_fixed">
      <parent link="link_finger_left"/>
      <child link="link_finger_tip_left"/>
      <origin xyz="0.0 -0.0103567 0.0641556" rpy="0.19999999987321332 0.0 0.0"/>
   </joint>
   <material name="white">
      <color rgba="1 1 1 1"/>
   </material>
</robot>
